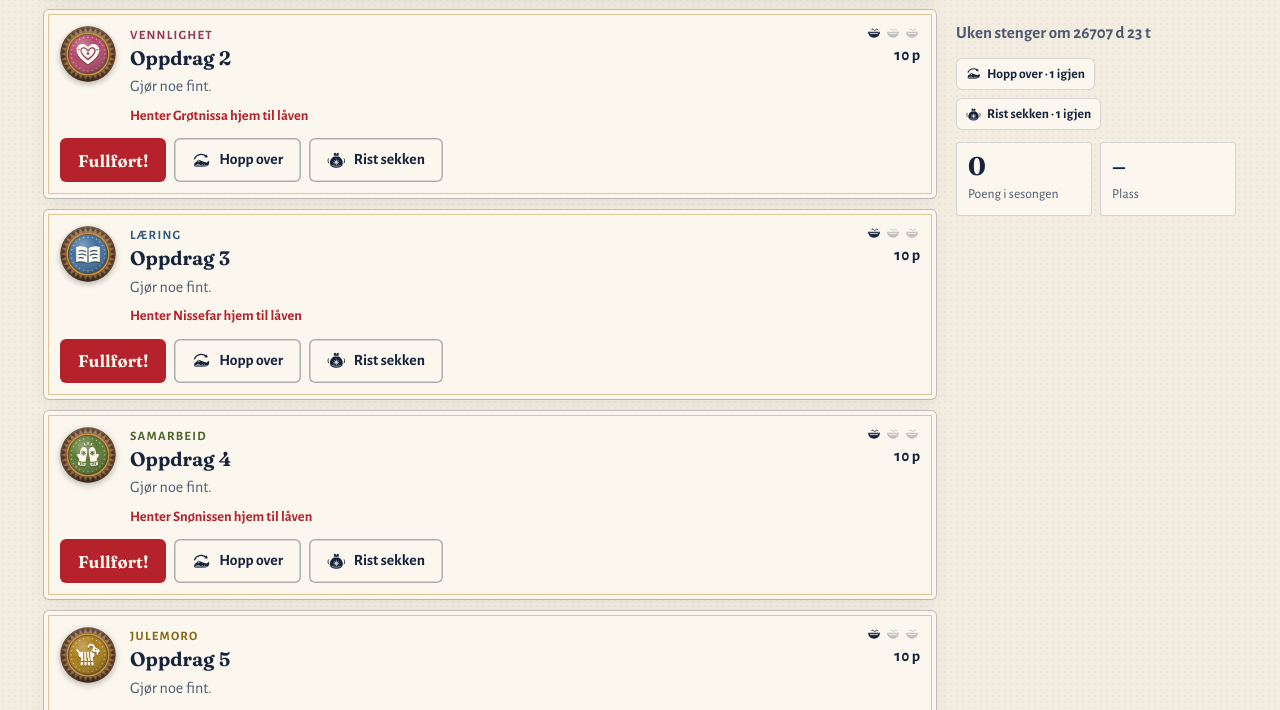
Test: HomePage › skips after one confirmation and rolls back with a toast on skip_used
The width and height of the screenshot is (1280, 710).
(page scrolled)
Expected: the heading "Oppdrag 3" is shown, [130, 246, 230, 270]
Click the button "Hopp over" below "Henter Nissefar hjem til låven".
click(238, 361)  # box [174, 339, 301, 383]
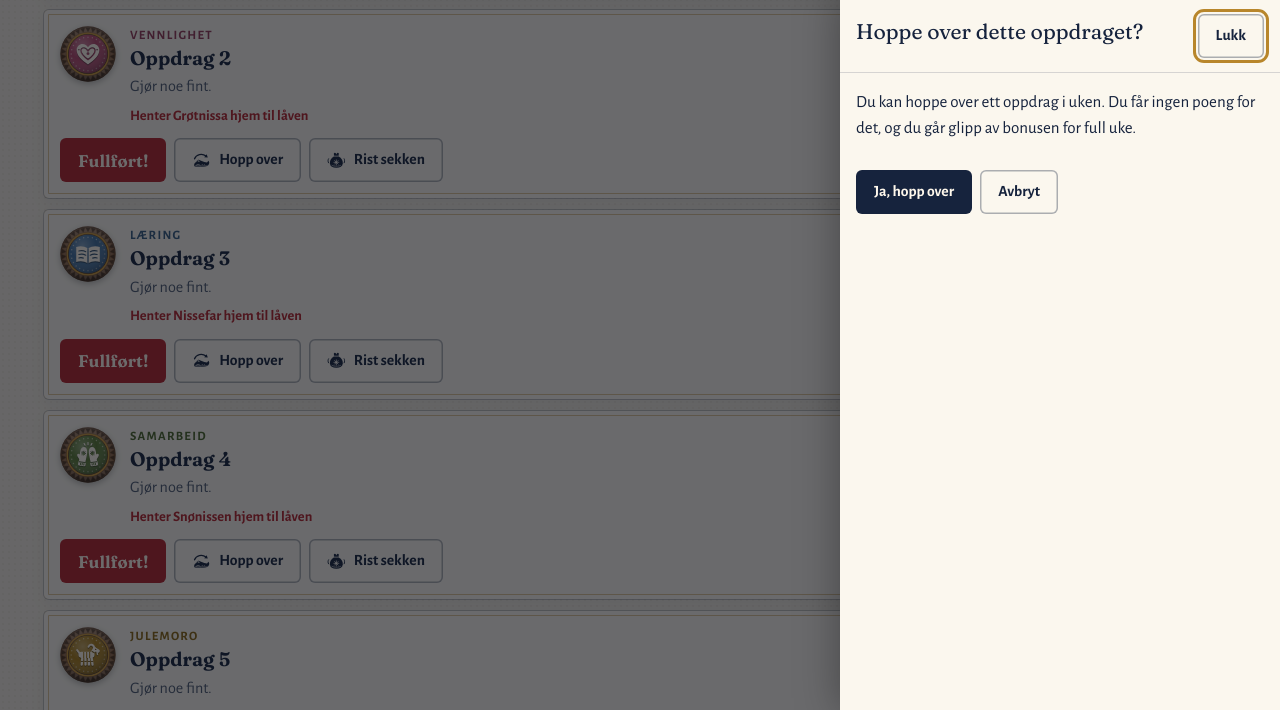
Click the button "Ja, hopp over".
click(914, 192)  # box [856, 170, 972, 214]
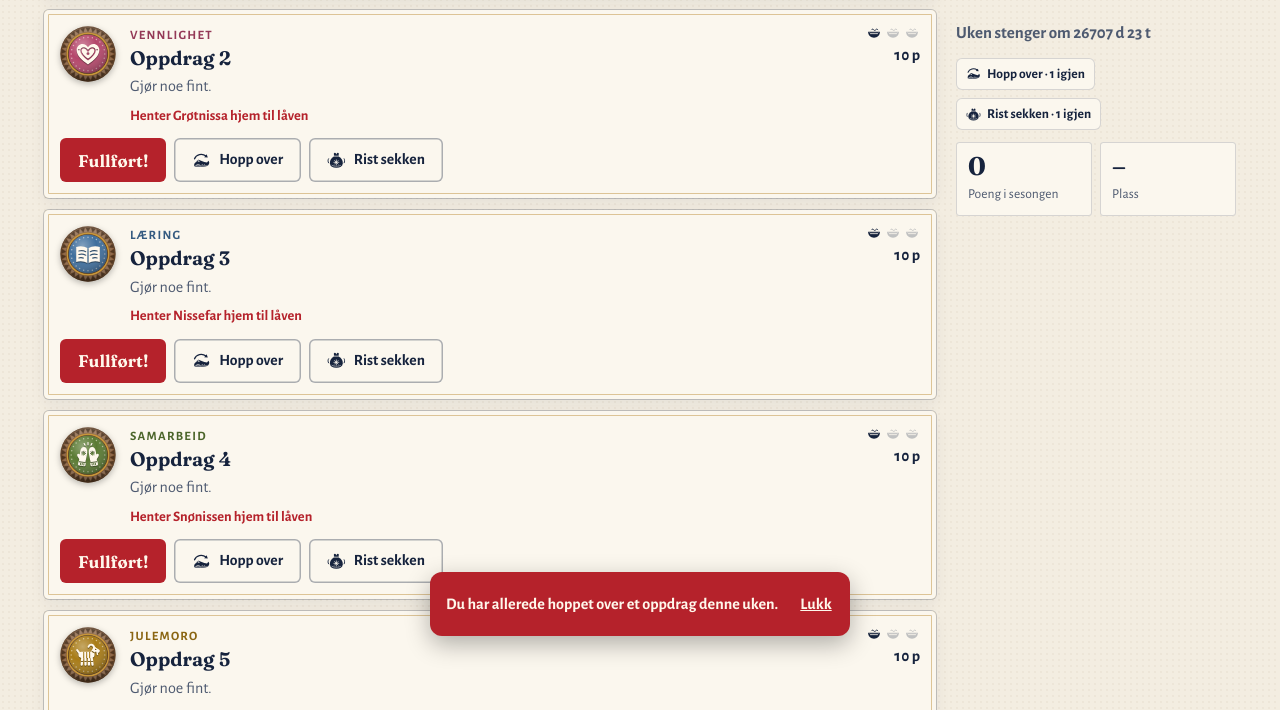
Expected: the button "Fullført!" below "Henter Nissefar hjem til låven" is shown, [60, 339, 166, 383]
Expected: the text "Du har allerede hoppet over et oppdrag denne uken." is shown, [446, 592, 778, 616]
